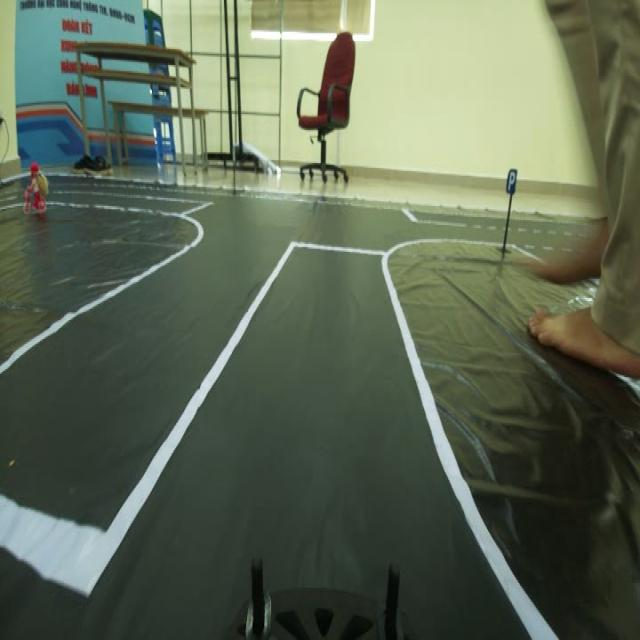parking: (501, 157, 523, 196)
